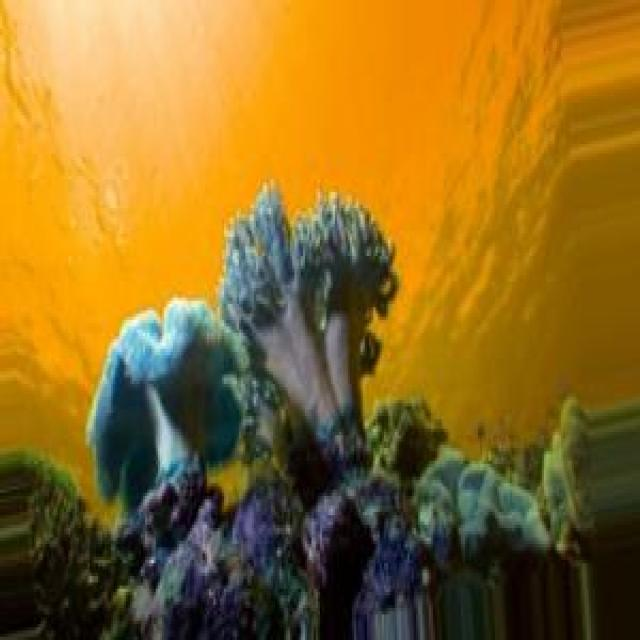Healthy: (35, 183, 596, 640)
